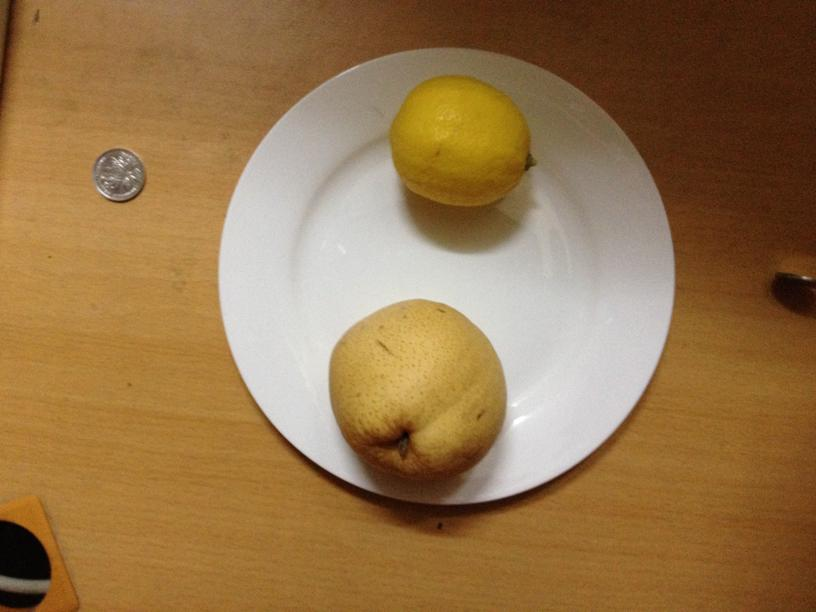coin: (91, 147, 146, 203)
lemon: (388, 78, 531, 208)
pear: (327, 298, 508, 479)
